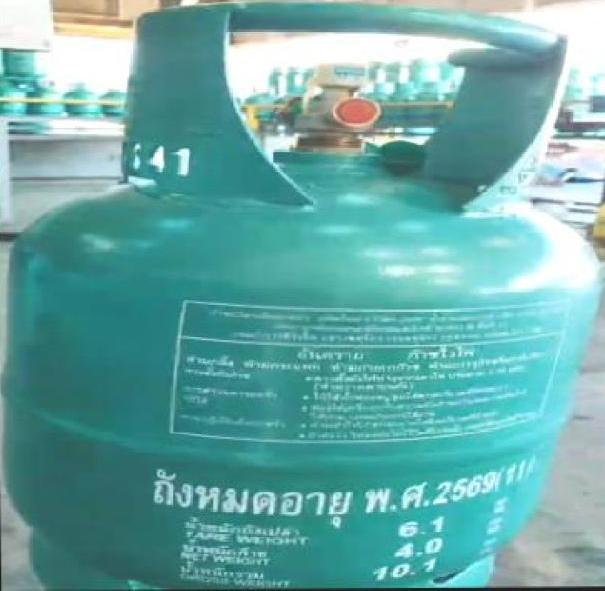cylinder: (1, 0, 605, 591)
